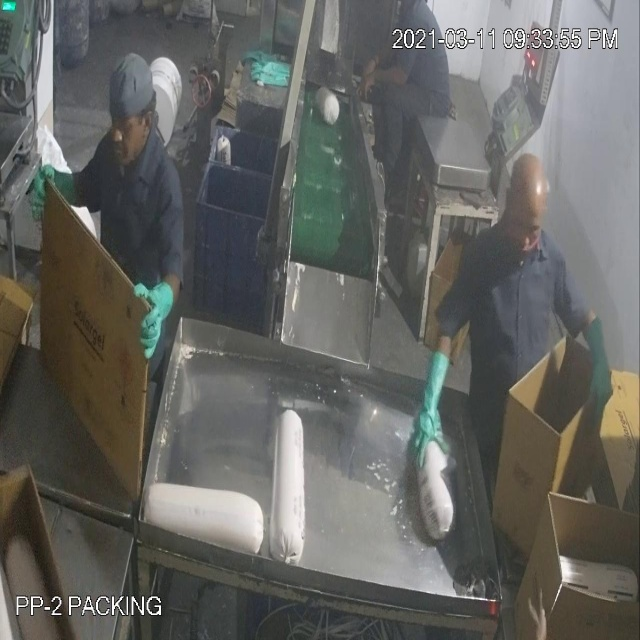Guantes: (573, 300, 618, 447), (410, 345, 456, 464), (129, 271, 180, 364)
Sin_guantes: (358, 60, 428, 113)
